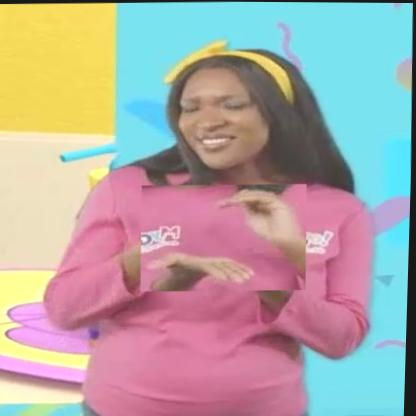ExcuseMe: (140, 182, 309, 292)
